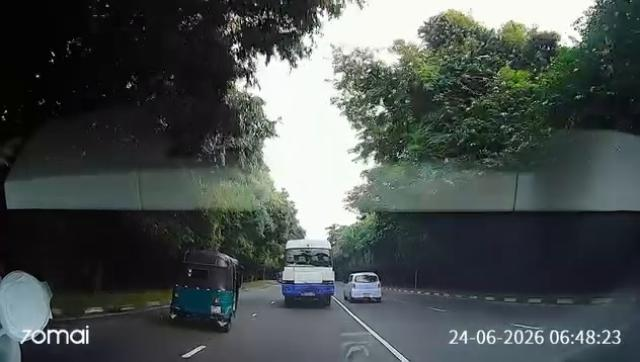illegal overtaking: (344, 271, 389, 310)
number plate: (363, 294, 372, 299)
